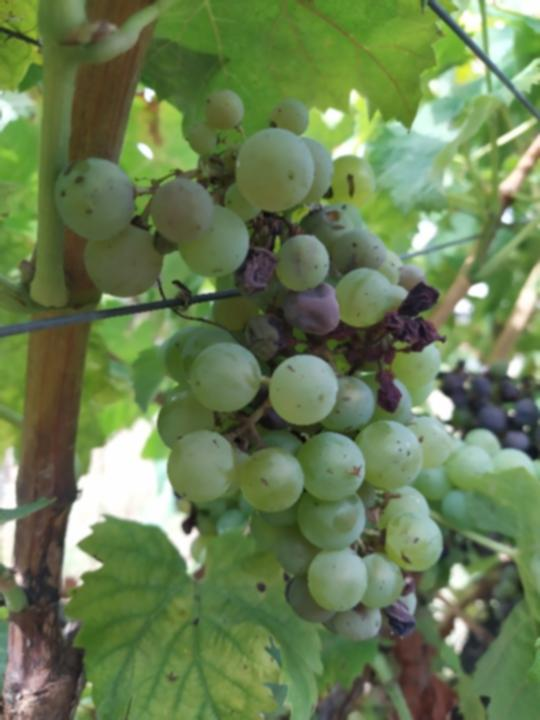grape: (50, 86, 451, 645)
